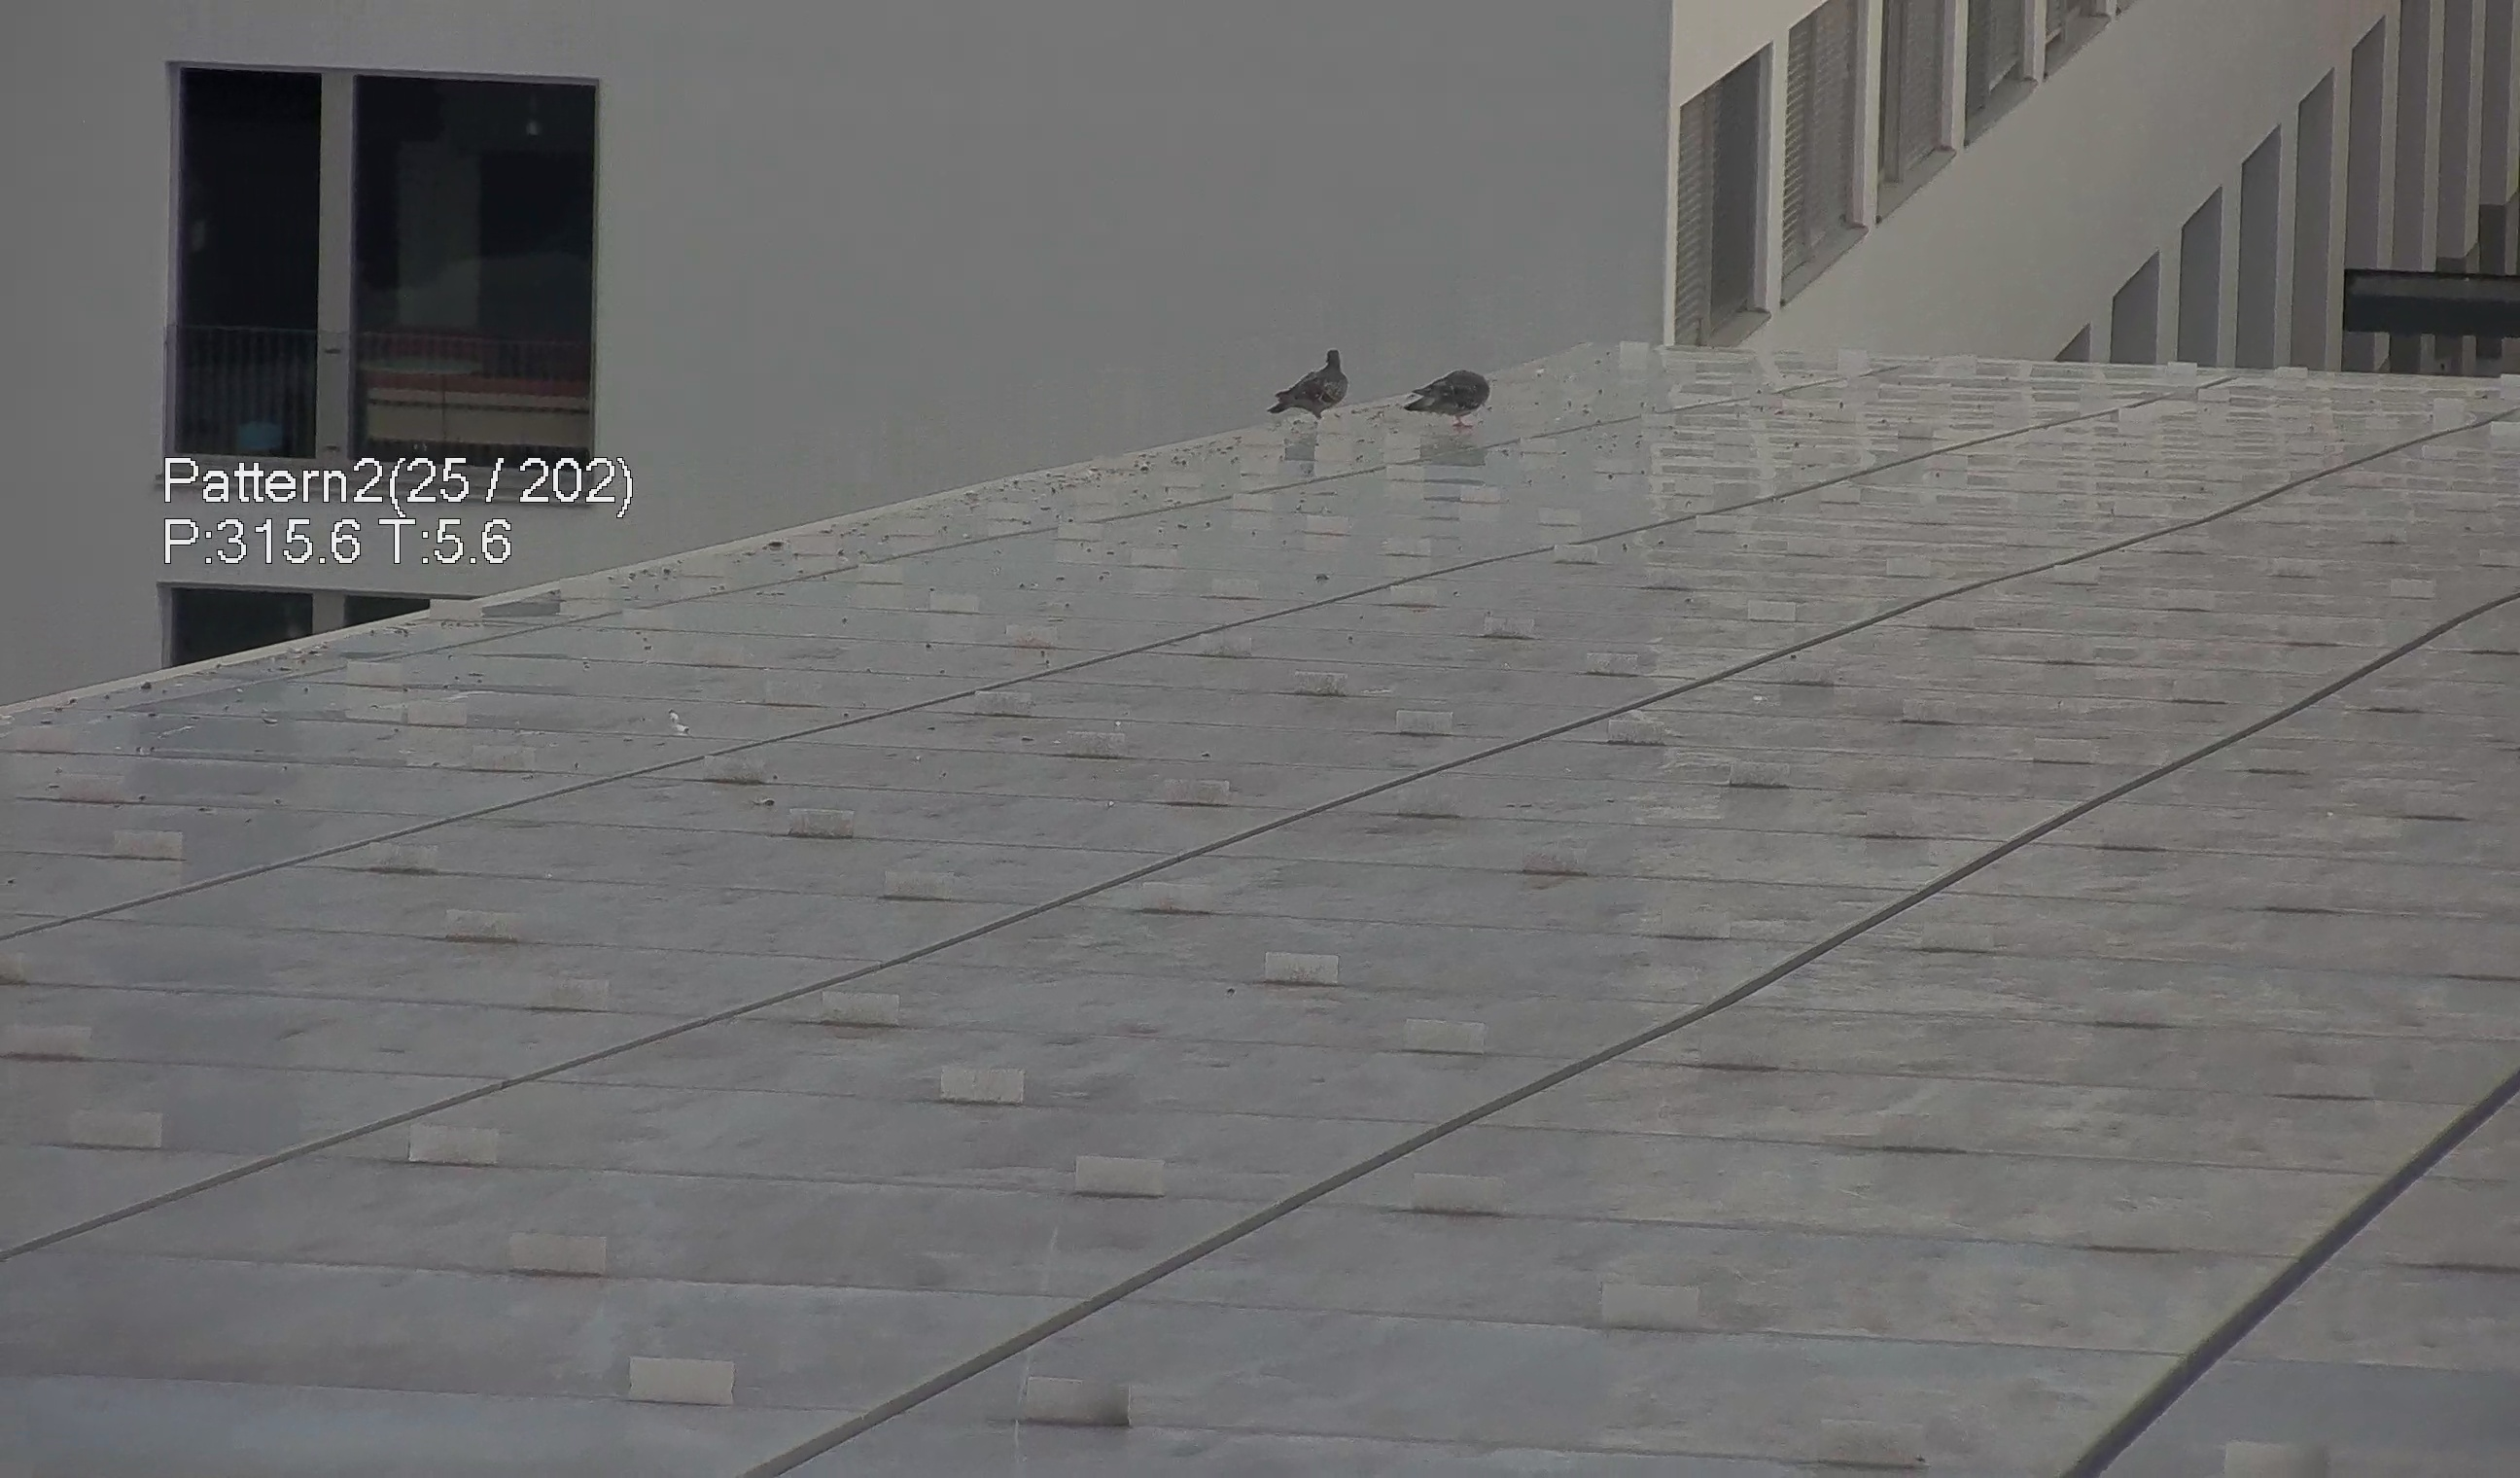Pigeon: (1266, 327, 1359, 429), (1391, 350, 1497, 422)
